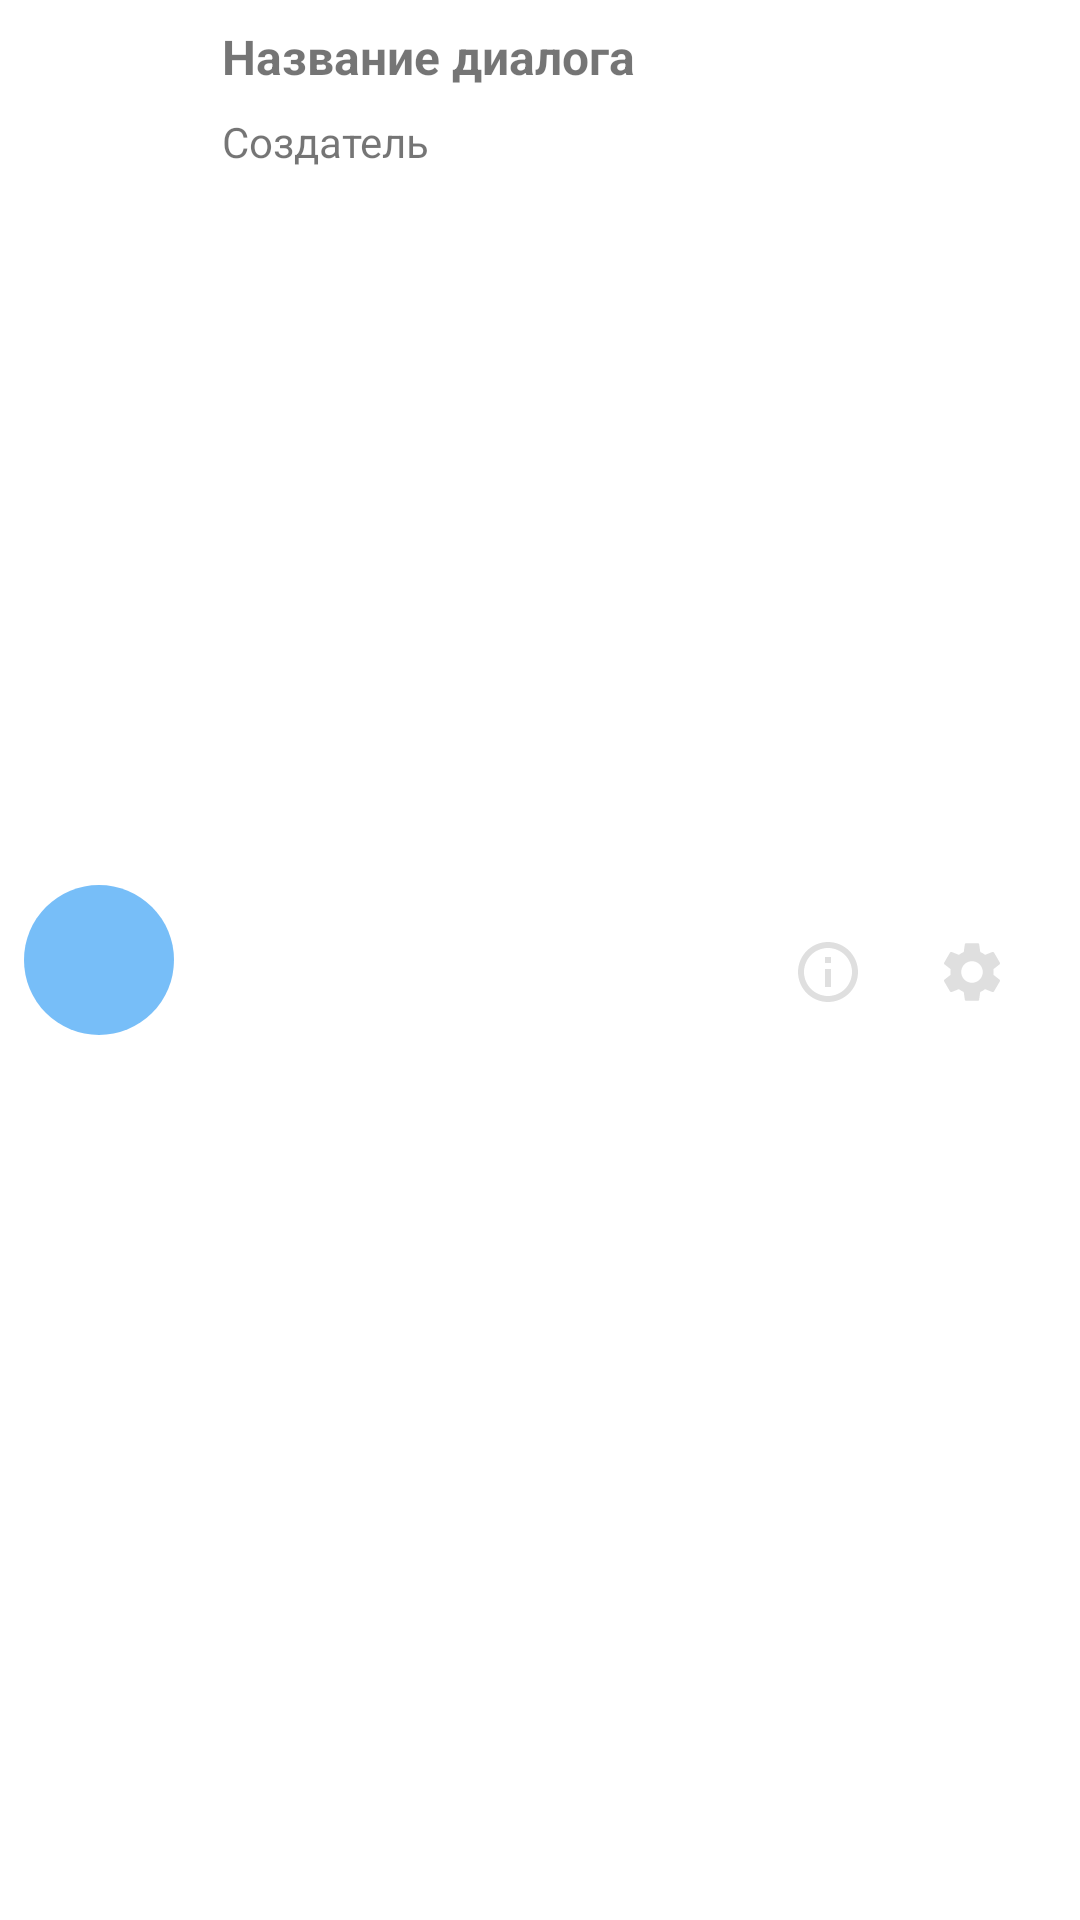

Point at icon controls on the screen. Image size 1080 × 1920, points as (x=x, y=y).
Info: (x=828, y=972)
Settings: (x=972, y=972)
